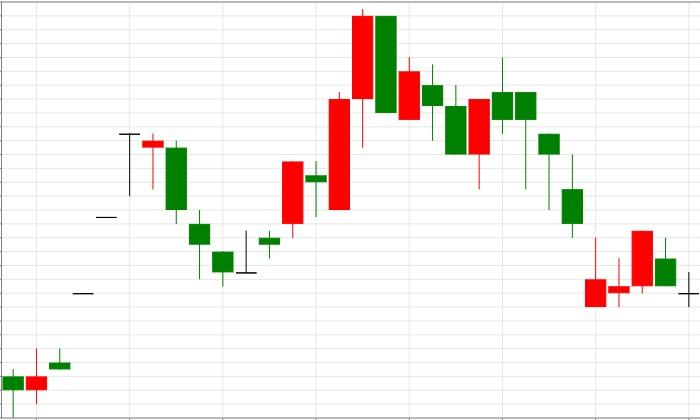inverse_hammer_rise: (492, 57, 607, 307)
three_black_crows_fall: (26, 132, 233, 403)
